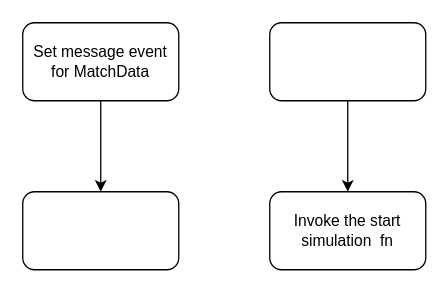
Some shapes in this 448 by 293 pixel diagram are drawn without their labels. Each missing label, with the box of its shape:
Invoke the request/msg handler: (21, 190, 179, 270)
Set message event for game start: (268, 21, 426, 101)
